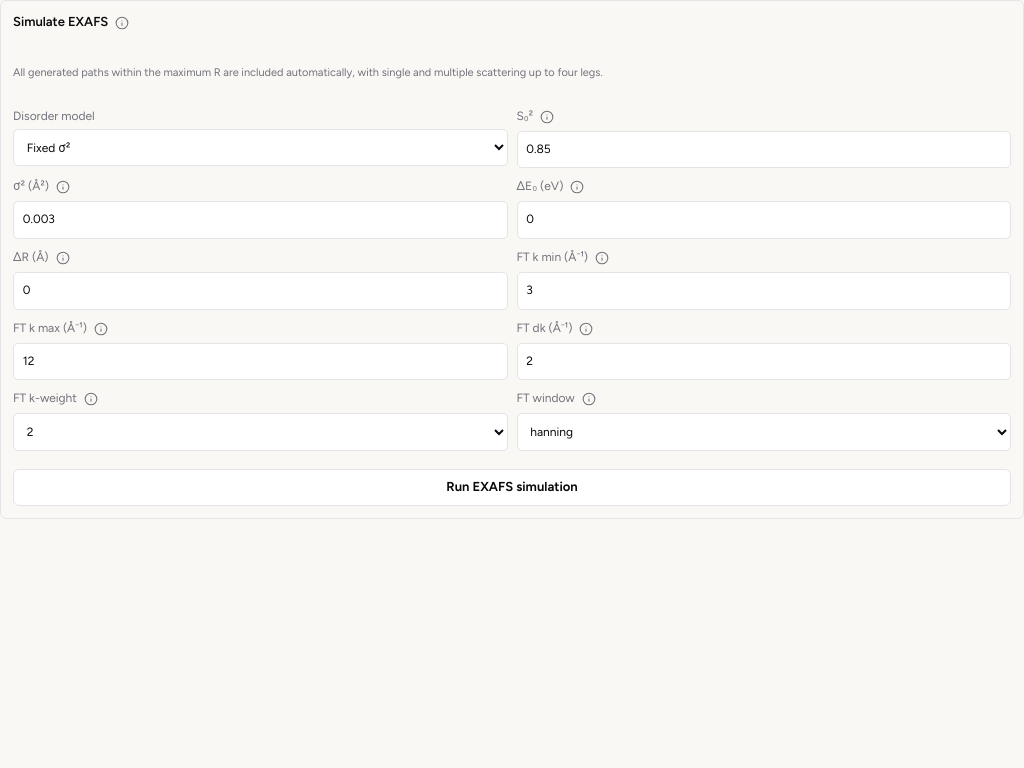
Test: CIF simulation controls › supports Debye at 298 K, requires material ΘD, and reuses FEFF when temperature changes
The width and height of the screenshot is (1024, 768).
Select "Correlated Debye" in the dropdown named "Simulation disorder model". click: (260, 148)
box: [13,129,508,166]
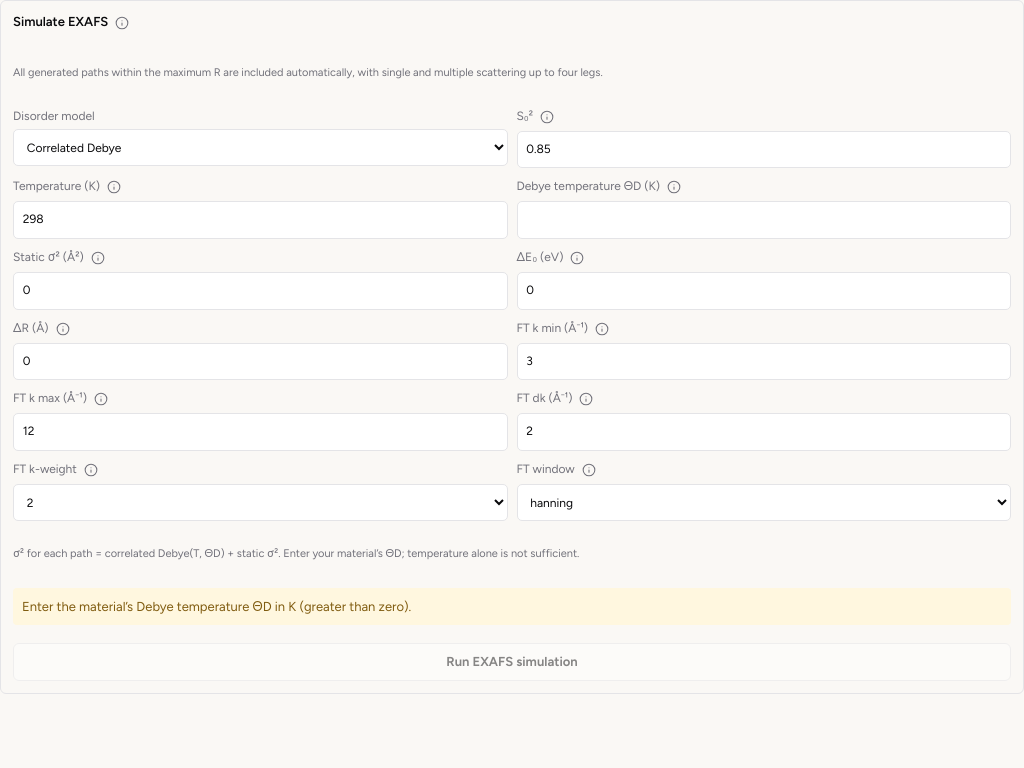
expect the number field named "Simulation Temperature (K)" holds "298": met, box [13,201,508,239]
expect the number field named "Simulation Debye temperature ΘD (K)" is not empty: met
expect the button "Run EXAFS simulation" is disabled: met, box [13,643,1011,681]
Type "350" into the number field named "Simulation Debye temperature ΘD (K)". click: (764, 220)
box: [516,201,1011,239]
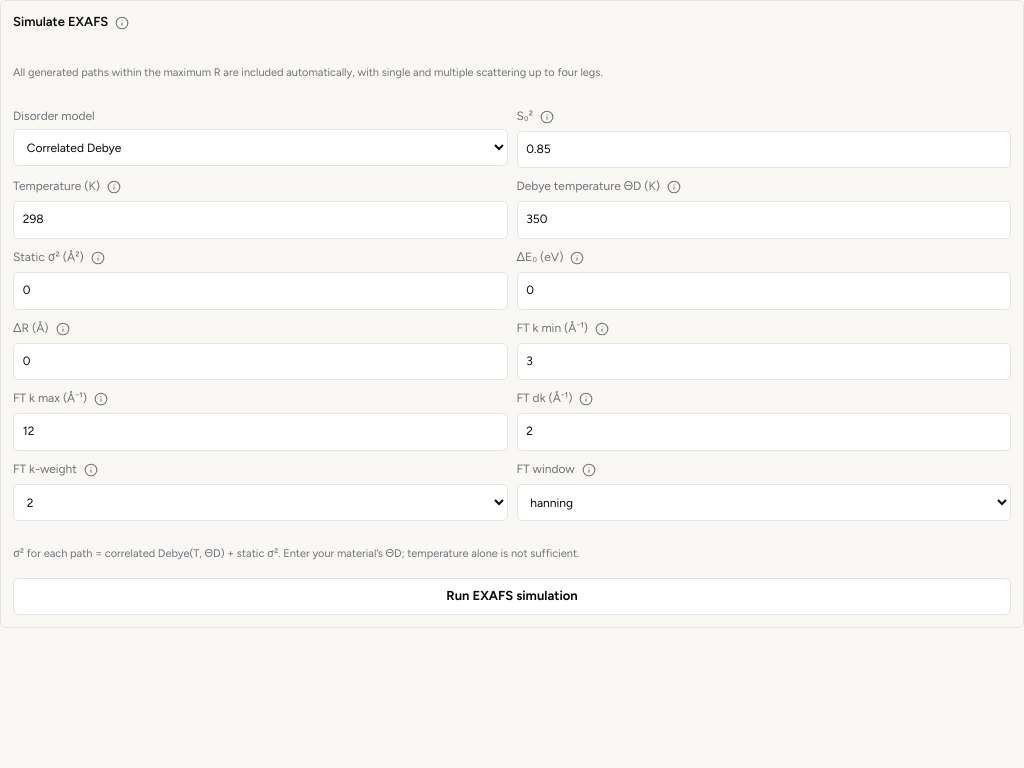
Click the button "Run EXAFS simulation". click: (512, 596)
box: [13,578,1011,615]
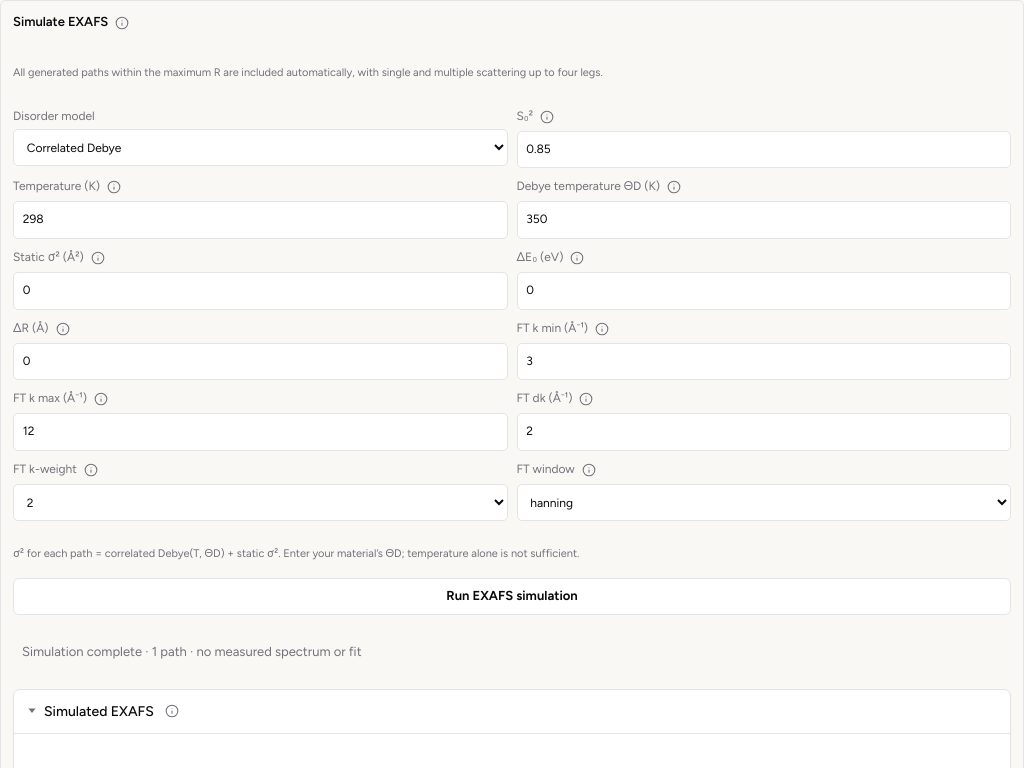
Replace the text in the number field named "Simulation Temperature (K)" with "100". click: (260, 220)
box: [13,201,508,239]
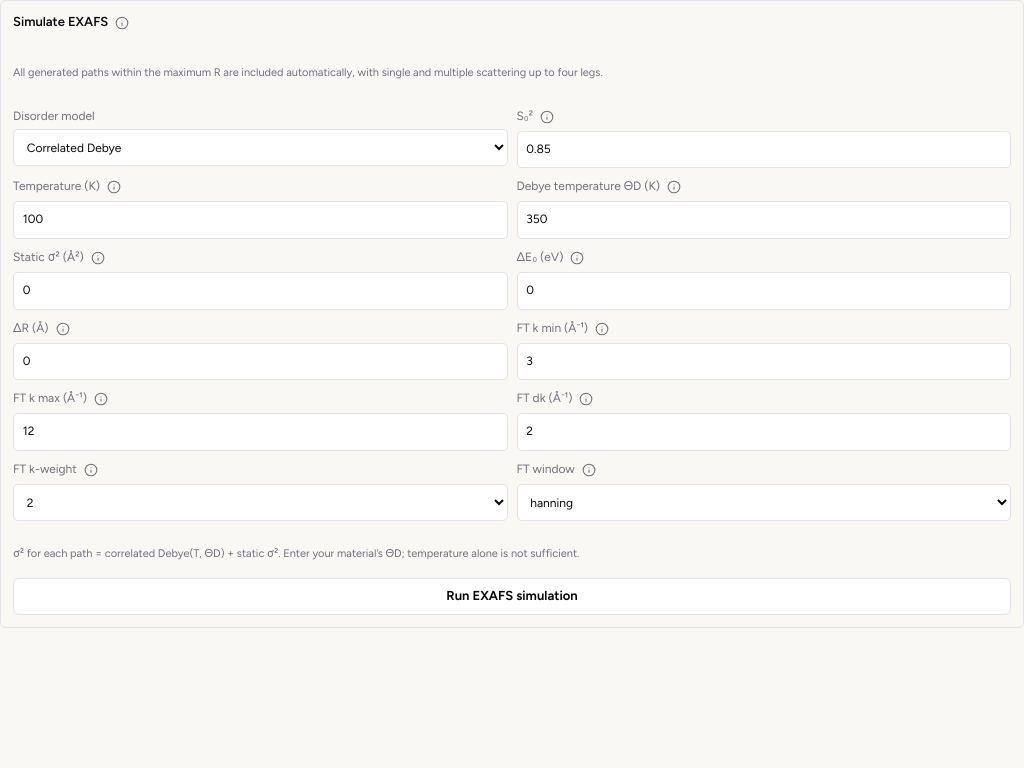
Click the button "Run EXAFS simulation". click: (512, 596)
box: [13,578,1011,615]
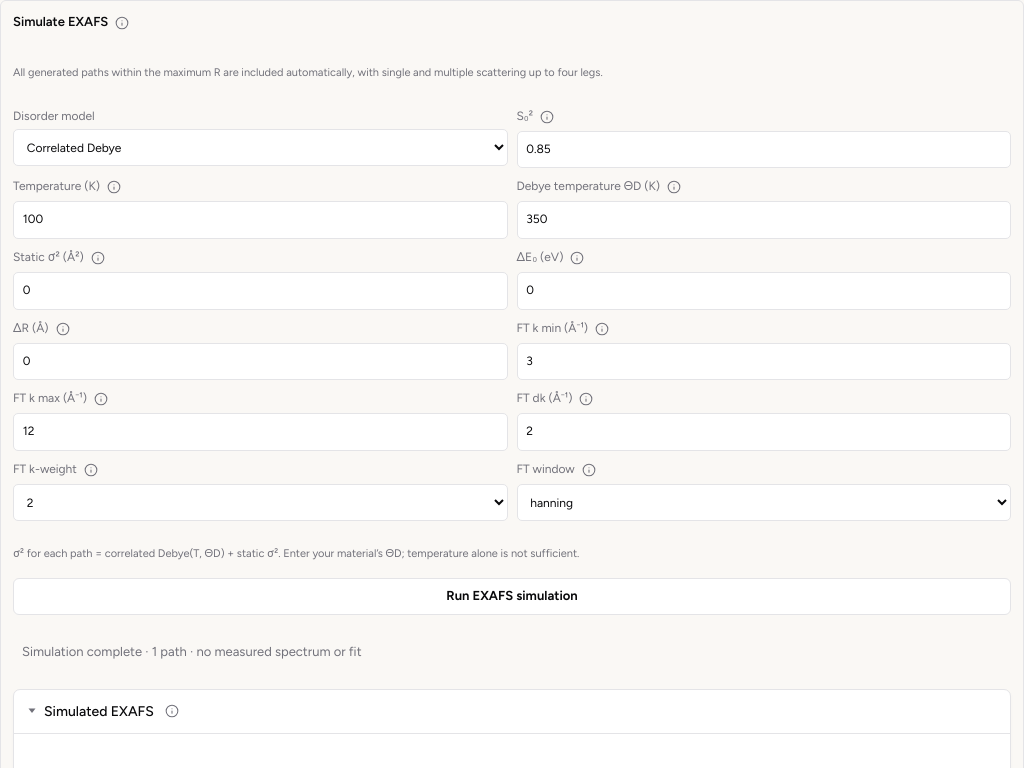
Select "Fixed σ²" in the dropdown named "Simulation disorder model". click: (260, 148)
box: [13,129,508,166]
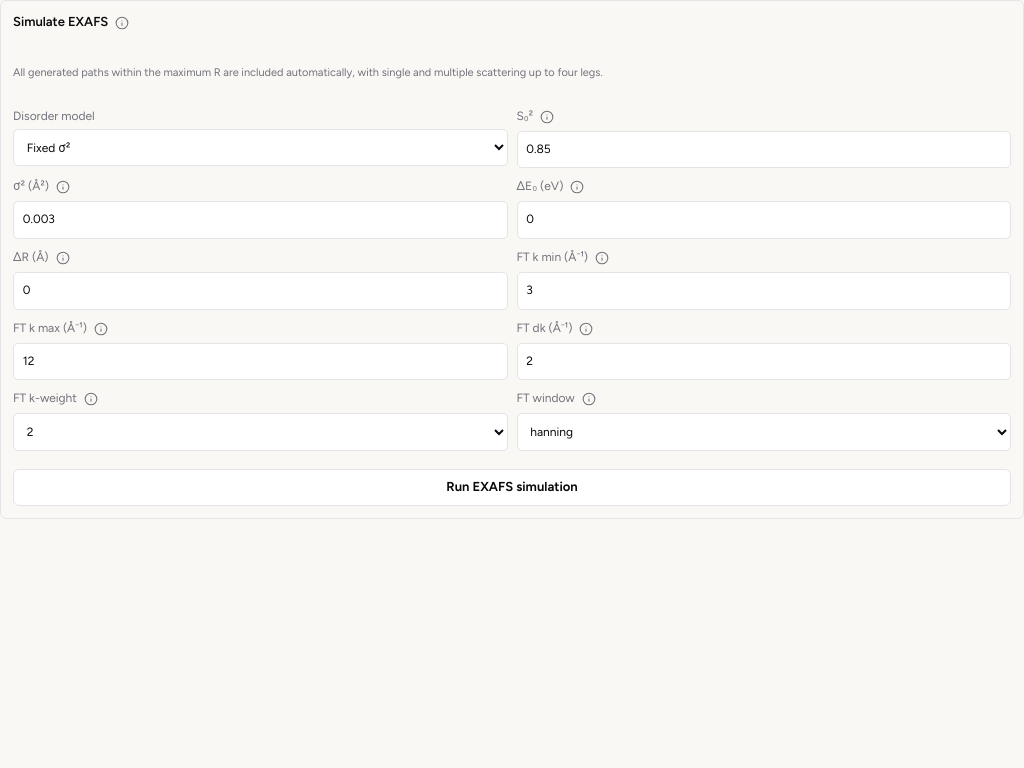
expect the number field named "Simulation σ² (Å²)" holds "0.003": met, box [13,201,508,239]
